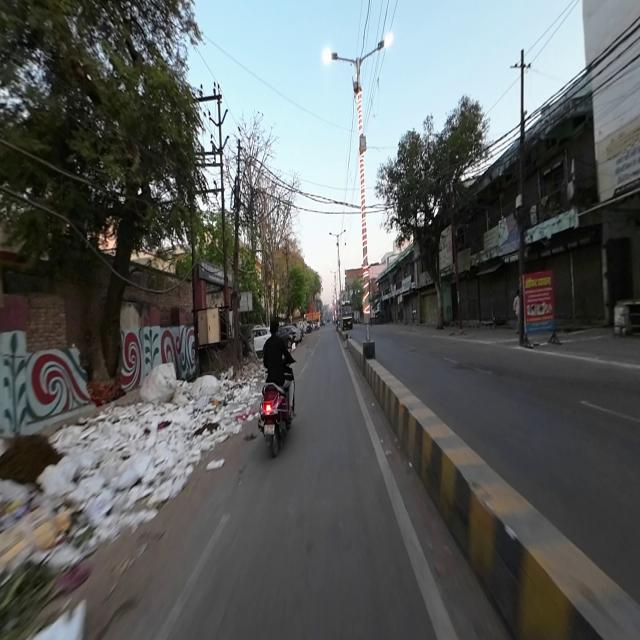Garbage: (1, 432, 112, 572), (115, 392, 174, 522), (175, 378, 252, 448), (143, 364, 178, 404), (176, 449, 202, 478)
